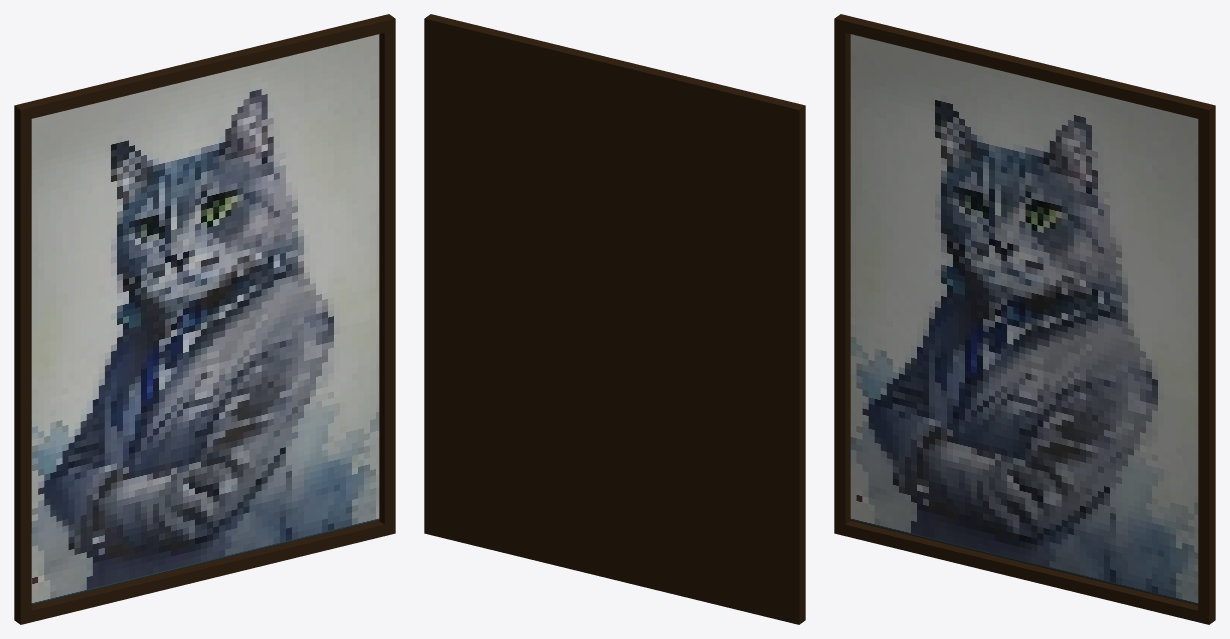
The model's file is CuadroGato5.fbx.
3 views of the same model, side by side, from view 1: azimuth 30°, elevation 25°; view 2: azimuth 150°, elevation 25°; view 3: azimuth 330°, elevation 25° (orthographic).
Parts seen in each view (by area): view 1: Cube; view 2: Cube; view 3: Cube.
Boxes of the visible parts, box(x1,y1,x2,y2) form: Cube: box(14, 14, 395, 624); Cube: box(424, 14, 805, 624); Cube: box(834, 14, 1215, 624).
Bounding box in the file's own units: 577 × 757 × 16.91.
